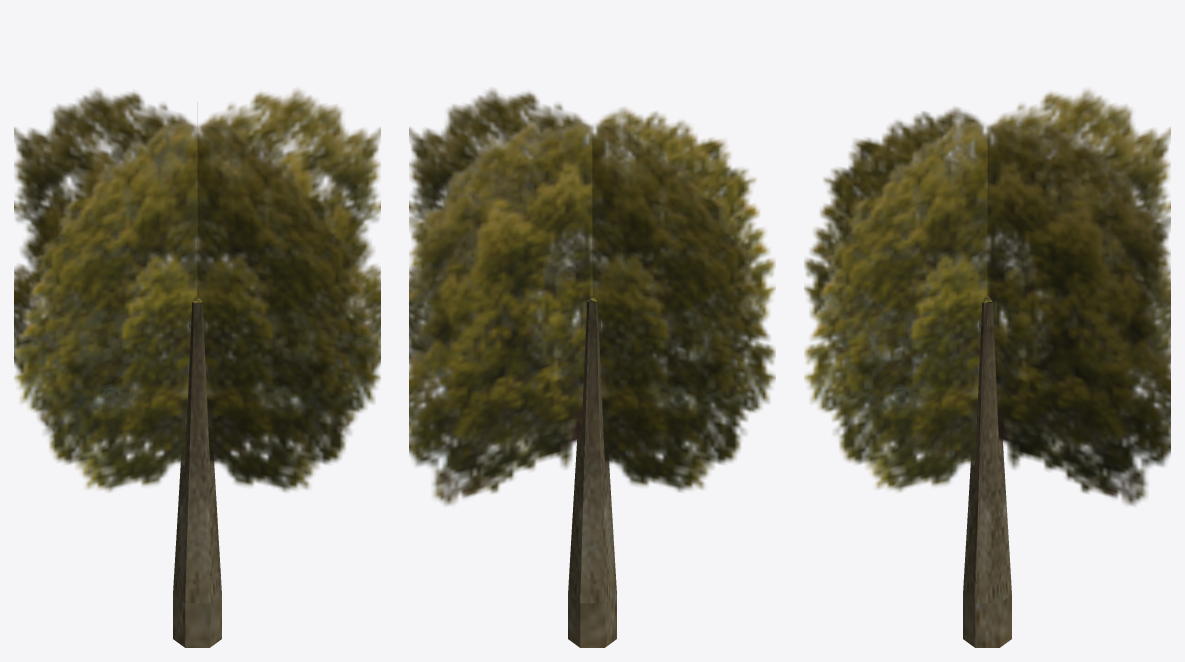
Rendered from Treeee.glb.
The picture shows the model from 3 angles, left to right: view 1: azimuth 30°, elevation 25°; view 2: azimuth 150°, elevation 25°; view 3: azimuth 270°, elevation 25°; orthographic projection.
Parts seen in each view (by area): view 1: Plane.015; view 2: Plane.015; view 3: Plane.015.
Boxes of the visible parts, bbox=[...] form: Plane.015: bbox=[14, 89, 380, 647]; Plane.015: bbox=[409, 89, 775, 647]; Plane.015: bbox=[804, 89, 1170, 647].
Size of the model in its own units: 4.1 by 5.73 by 3.55.
Materials: 1 (1 with a texture image).
